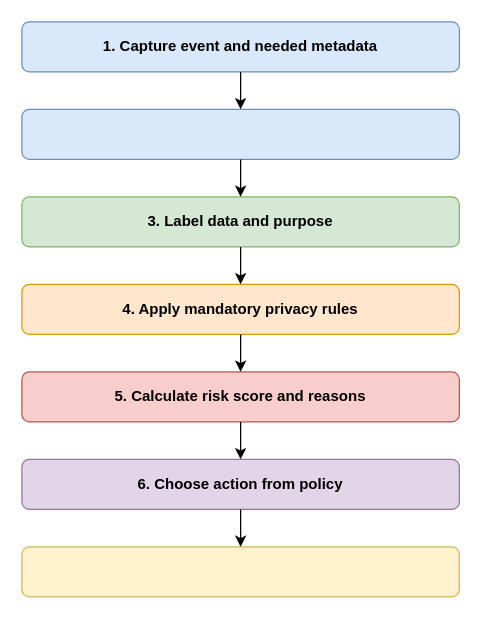
Some shapes in this 481 by 619 pixel diagram are drawn without their labels. Here are the shapes that lost their labels. From the top down, the box of each, then its label:
(21, 108, 459, 159): 2. Verify device and required fields
(21, 546, 459, 597): 7. Save audit evidence and show result
